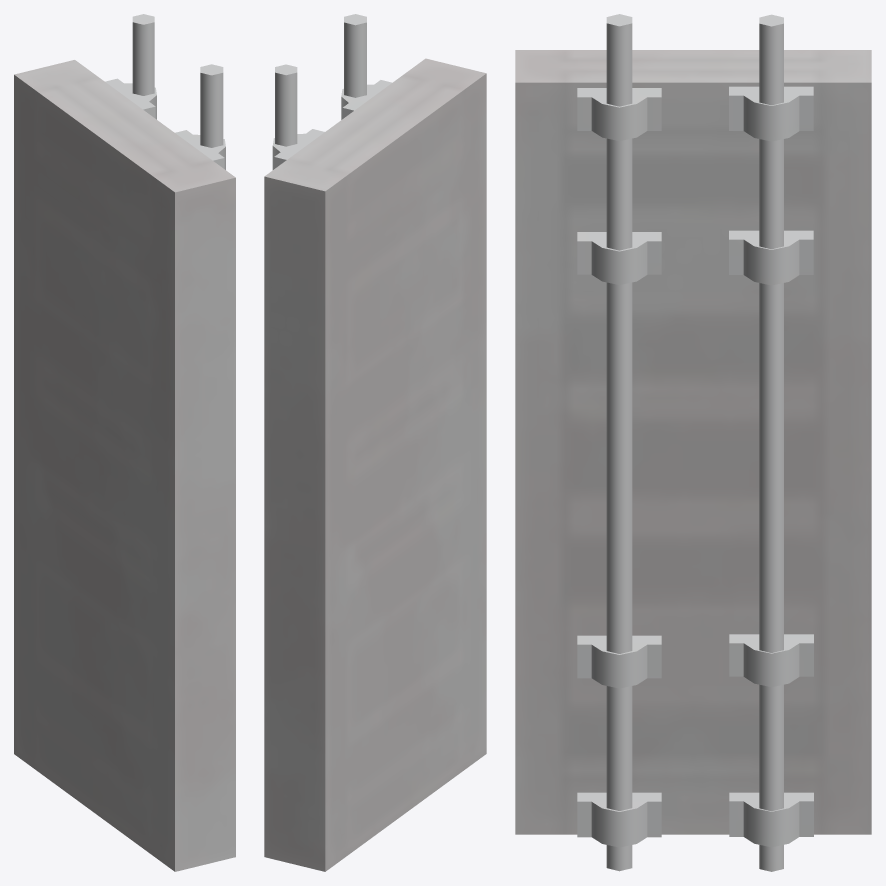
The model's file is SM_Container_L.fbx.
3 views of the same model, side by side, from view 1: azimuth 30°, elevation 25°; view 2: azimuth 150°, elevation 25°; view 3: azimuth 270°, elevation 25° (orthographic). The views are drawn at different scales.
Parts seen in each view (by area): view 1: SM_Container_L; view 2: SM_Container_L; view 3: SM_Container_L.
Part boxes in pixels (x1,y1,x2,y2): SM_Container_L: (14, 14, 235, 871); SM_Container_L: (264, 14, 486, 871); SM_Container_L: (515, 14, 871, 871).
Size of the model in its own units: 0.3459 by 2.61 by 0.996.
